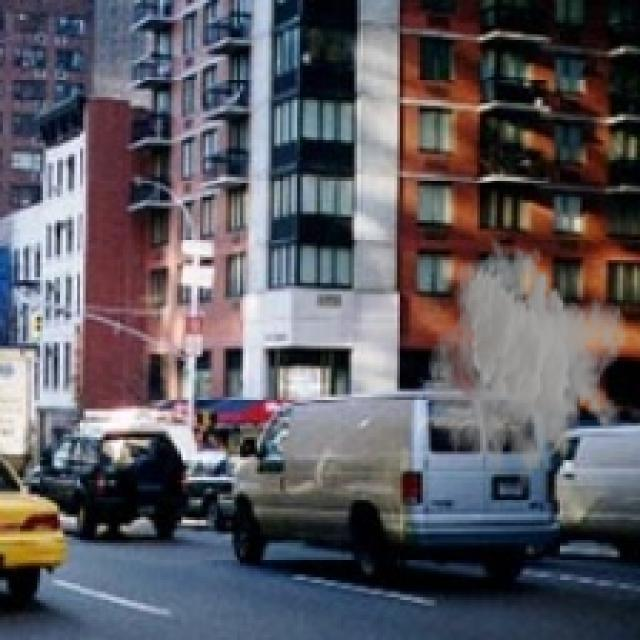Smoke: (426, 235, 628, 500)
